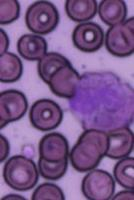E: (69, 68, 133, 132)
